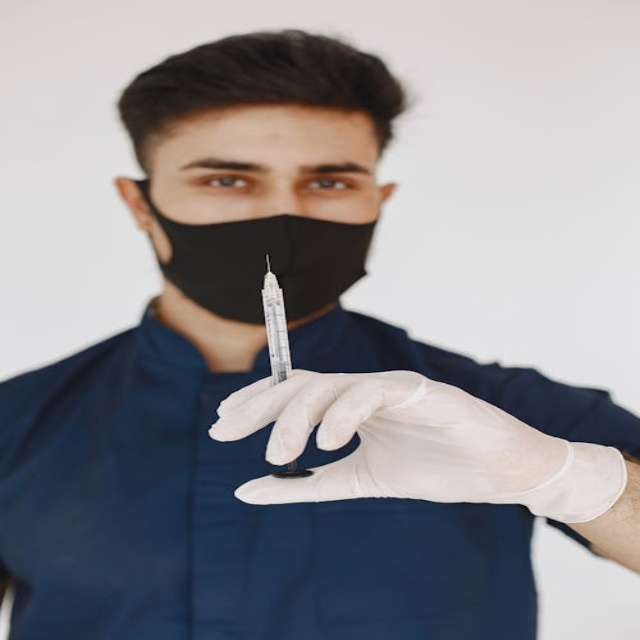Guantes: (212, 369, 624, 523)
Mascara: (142, 186, 378, 324)
Sin_gafas: (172, 146, 378, 202)
